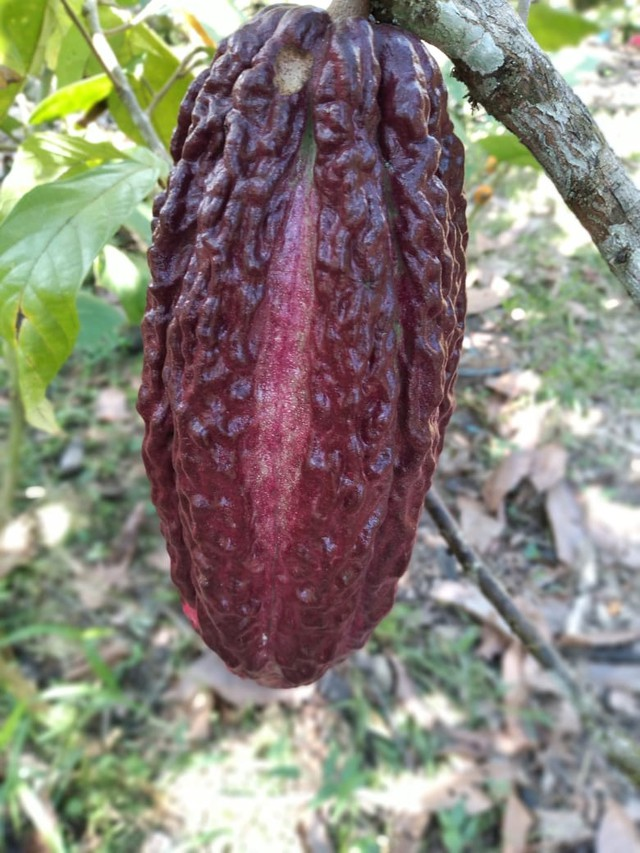Health: (125, 2, 481, 704)
